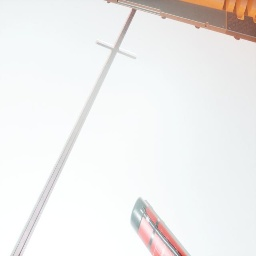FireExtinguisher ]: (130, 196, 188, 256)
